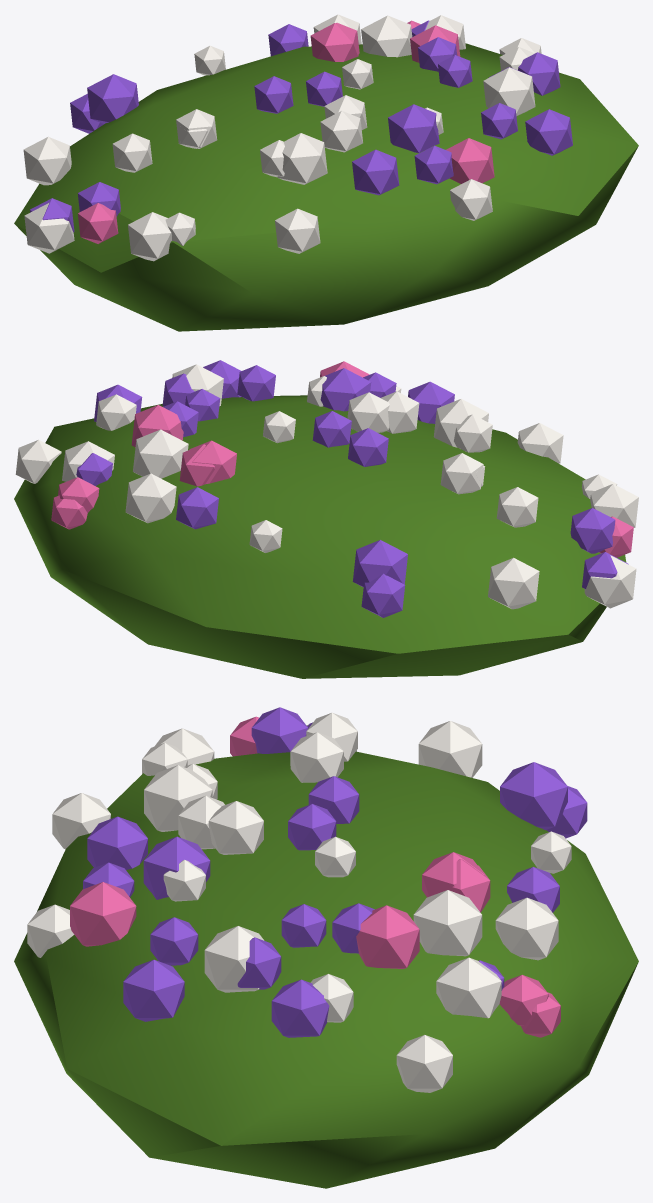
The model's file is flowers_a.fbx.
The picture shows the model from 3 angles, top to bottom: view 1: azimuth 30°, elevation 25°; view 2: azimuth 150°, elevation 25°; view 3: azimuth 270°, elevation 25°; orthographic projection. The views are drawn at different scales.
Visible parts, largest first — view 1: flowers_a; view 2: flowers_a; view 3: flowers_a.
Boxes of the visible parts, x1,y1,x2,y2 form: flowers_a: (14,14,638,331); flowers_a: (14,360,638,678); flowers_a: (14,707,638,1188).
Bounding box in the file's own units: 2.61 × 0.8944 × 1.84.
